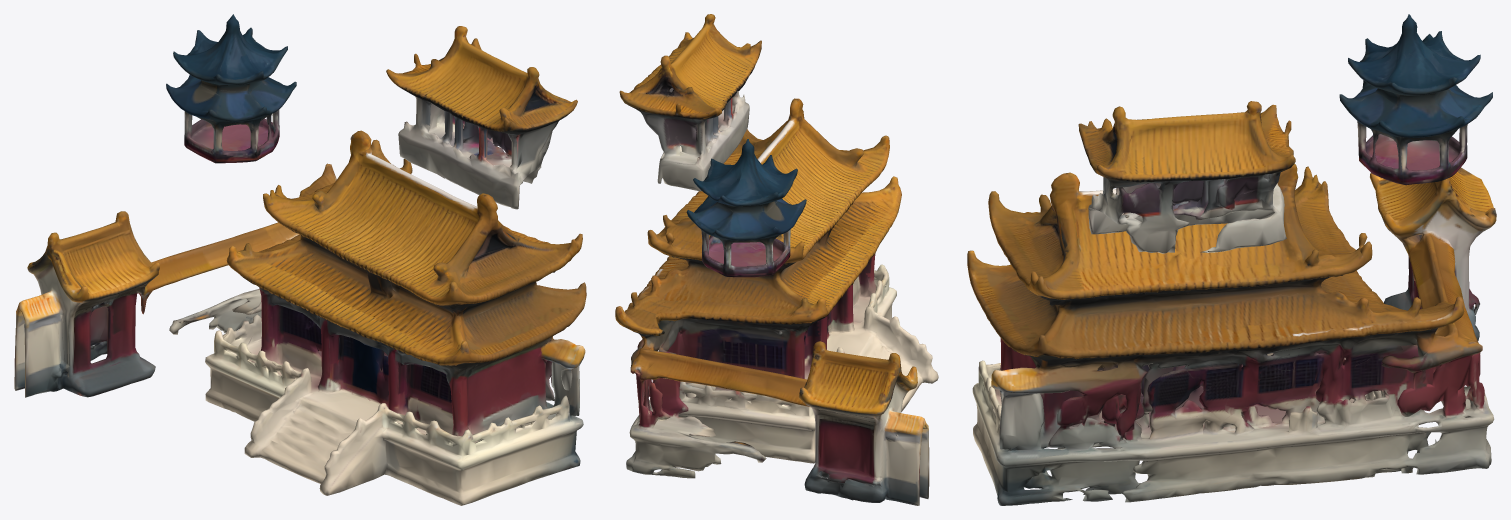
3 views of the same model, side by side, from view 1: azimuth 30°, elevation 25°; view 2: azimuth 150°, elevation 25°; view 3: azimuth 270°, elevation 25° (orthographic). The views are drawn at different scales.
Parts seen in each view (by area): view 1: material.001; view 2: material.001; view 3: material.001.
Part boxes in pixels (x1,y1,x2,y2): material.001: [14, 14, 586, 505]; material.001: [615, 14, 938, 505]; material.001: [967, 14, 1496, 505].
Size of the model in its own units: 0.8085 by 0.6773 by 0.8078.
Materials: 1 (1 with a texture image).
